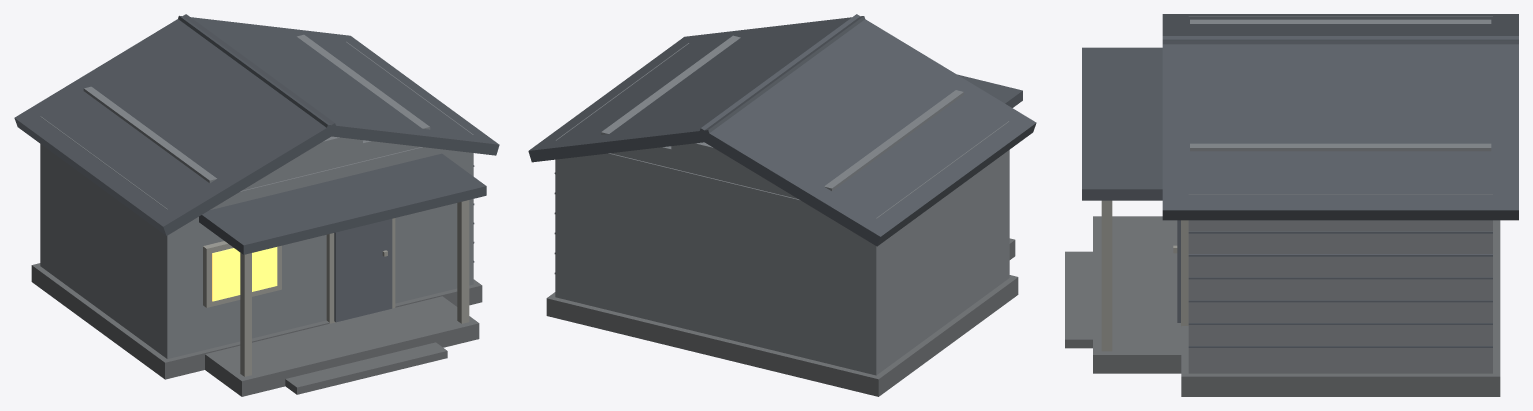
Rendered from cabana-g0.glb.
3 renders of one model, left to right at view 1: azimuth 30°, elevation 25°; view 2: azimuth 150°, elevation 25°; view 3: azimuth 270°, elevation 25°, orthographic. The views are drawn at different scales.
Parts seen in each view (by area): view 1: Volumen principal, Techo izquierdo, Techo derecho, Alero del porche, Porche, Hoja de puerta, Cimiento, Remate de frente, Escalón, Ventana encendida, Pilar derecho, Pilar izquierdo (+3 smaller); view 2: Volumen principal, Techo izquierdo, Techo derecho, Cimiento, Remate de frente, Cierre bajo la cumbrera, Alero del porche; view 3: Techo derecho, Volumen principal, Alero del porche, Porche, Cimiento, Techo izquierdo, Remate de frente, Escalón, Pilar derecho, Junta horizontal 5, Junta horizontal 3, Junta horizontal 4 (+5 smaller).
Boxes of the visible parts, x1,y1,x2,y2 form: Volumen principal: (40,41,473,358); Techo izquierdo: (14,14,337,235); Techo derecho: (178,15,499,155); Alero del porche: (199,153,486,254); Porche: (205,296,479,396); Hoja de puerta: (334,219,392,322); Cimiento: (31,263,482,379); Remate de frente: (83,34,430,190); Escalón: (285,342,447,394); Ventana encendida: (212,247,277,301); Pilar derecho: (457,200,469,323); Pilar izquierdo: (240,253,251,376); Volumen principal: (555,43,1009,375); Techo izquierdo: (697,14,1036,246); Techo derecho: (528,16,864,162); Cimiento: (546,275,1018,396); Remate de frente: (601,35,963,198); Cierre bajo la cumbrera: (671,142,758,175); Alero del porche: (957,74,1022,107); Techo derecho: (1162,36,1518,220); Volumen principal: (1188,16,1492,373); Alero del porche: (1082,47,1162,200); Porche: (1093,216,1181,373); Cimiento: (1181,220,1500,396); Techo izquierdo: (1162,14,1518,44); Remate de frente: (1190,19,1491,151); Escalón: (1065,251,1092,348); Pilar derecho: (1101,200,1112,351); Junta horizontal 5: (1188,254,1492,256); Junta horizontal 3: (1188,300,1492,302); Junta horizontal 4: (1188,277,1492,279).
Bounding box in the file's own units: 6.26 × 3.96 × 6.12.
